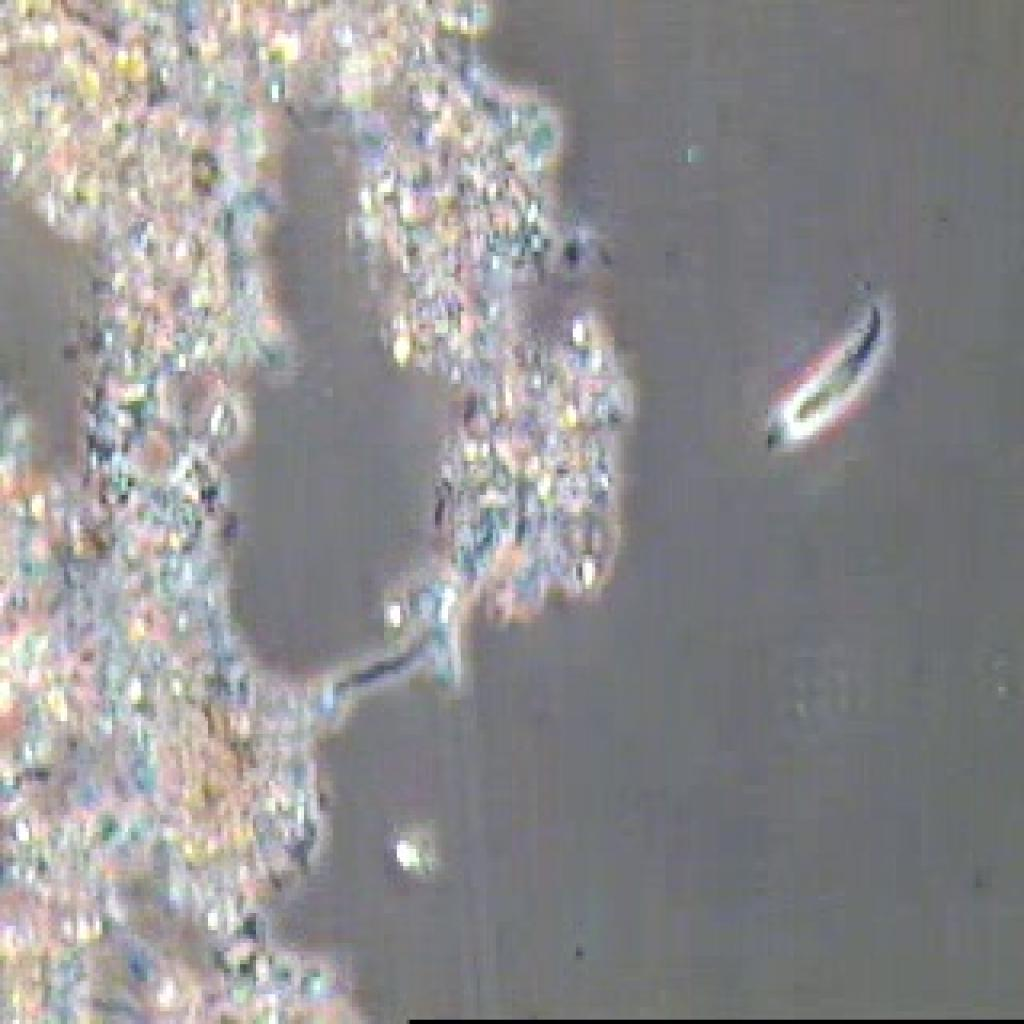Pristina: (739, 266, 899, 488)
